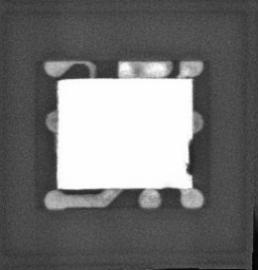DIE_BROKEN: (184, 136, 195, 176)
